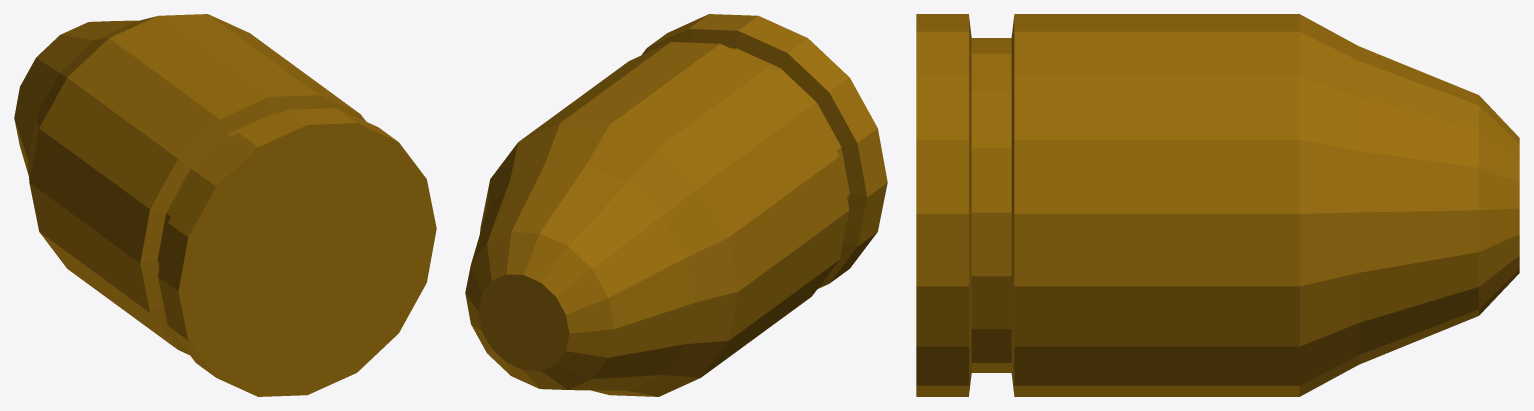
Rendered from lowpoly_pistols_bullet.fbx.
3 views of the same model, side by side, from view 1: azimuth 30°, elevation 25°; view 2: azimuth 150°, elevation 25°; view 3: azimuth 270°, elevation 25° (orthographic). The views are drawn at different scales.
Visible parts, largest first — view 1: Bullet; view 2: Bullet; view 3: Bullet.
Part boxes in pixels (box(x1,y1,x2,y2)): Bullet: box(14, 14, 436, 396); Bullet: box(465, 14, 887, 396); Bullet: box(916, 14, 1519, 396).
Bounding box in the file's own units: 25.07 × 25.07 × 39.47.
